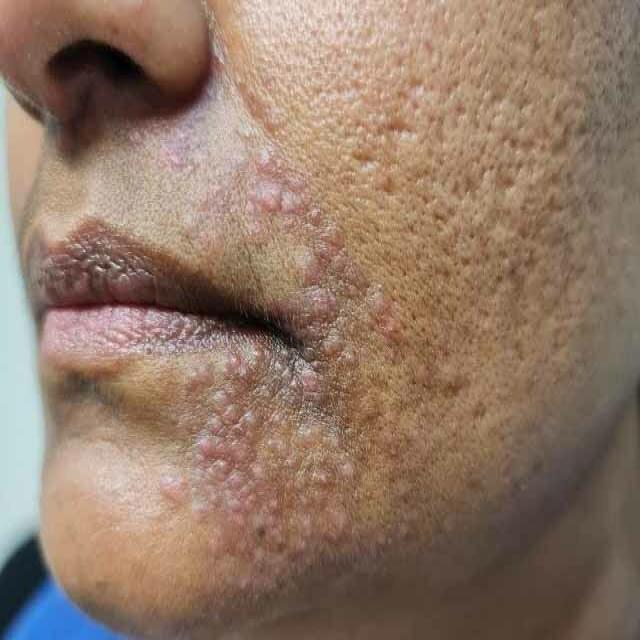Eczema: (161, 101, 404, 590)
